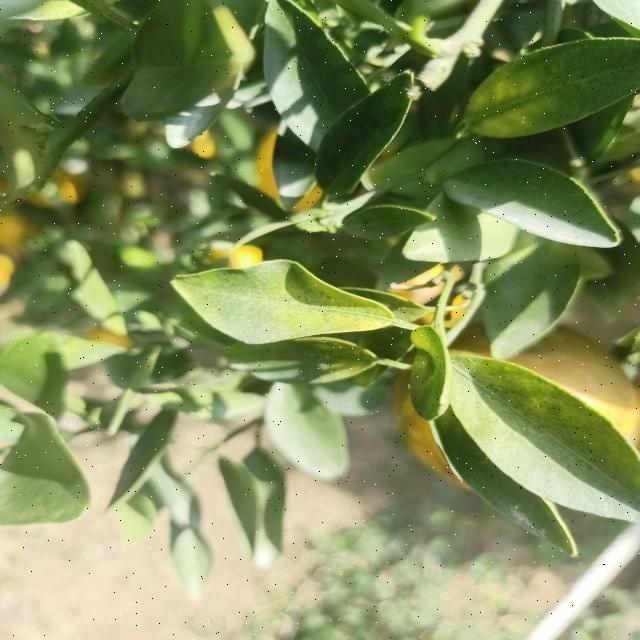blackspot: (455, 356, 640, 512), (186, 258, 380, 350), (392, 330, 452, 422)
